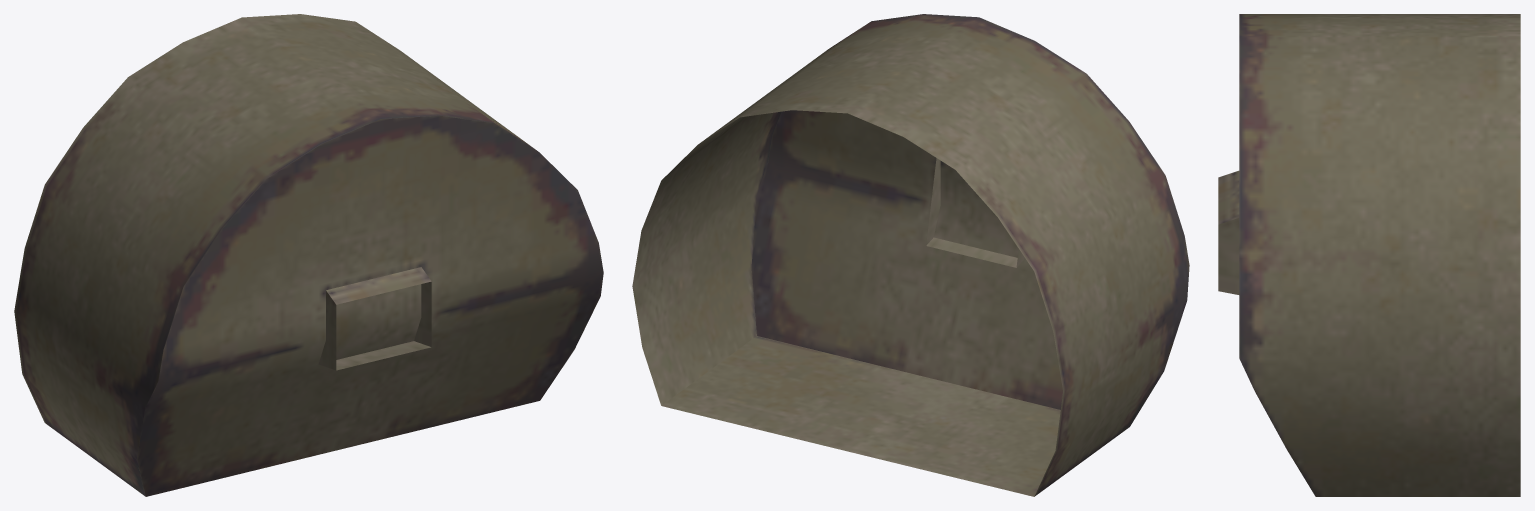
The model's file is Turret_01.glb.
The picture shows the model from 3 angles, left to right: view 1: azimuth 30°, elevation 25°; view 2: azimuth 150°, elevation 25°; view 3: azimuth 270°, elevation 25°; orthographic projection. The views are drawn at different scales.
Parts seen in each view (by area): view 1: set_0_group_0; view 2: set_0_group_0; view 3: set_0_group_0.
Part boxes in pixels (box(x1,y1,x2,y2)): set_0_group_0: box(14, 14, 603, 496); set_0_group_0: box(632, 14, 1189, 496); set_0_group_0: box(1218, 14, 1520, 496).
Size of the model in its own units: 0.4522 by 0.3391 by 0.2569.
Materials: 1 (1 with a texture image).
